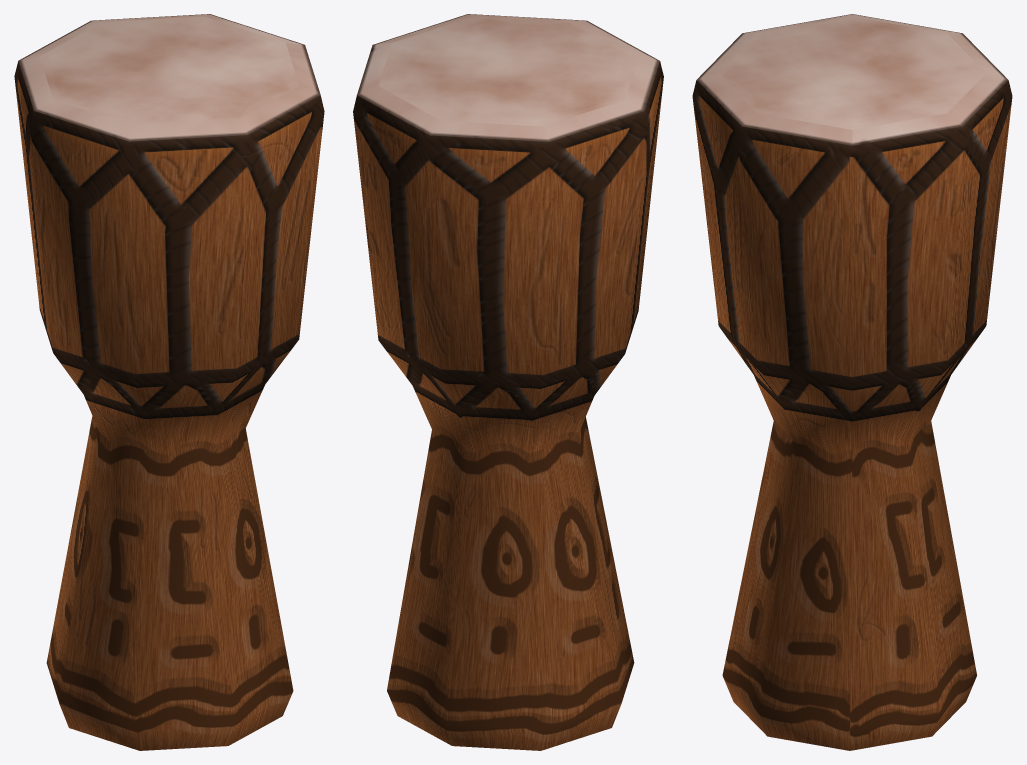
File: drums.FBX
3 views of the same model, side by side, from view 1: azimuth 30°, elevation 25°; view 2: azimuth 150°, elevation 25°; view 3: azimuth 270°, elevation 25° (orthographic).
Visible parts, largest first — view 1: Cylinder01; view 2: Cylinder01; view 3: Cylinder01.
Boxes of the visible parts, bbox=[...] form: Cylinder01: bbox=[14, 14, 324, 750]; Cylinder01: bbox=[353, 14, 663, 750]; Cylinder01: bbox=[692, 14, 1012, 750].
Bounding box in the file's own units: 29.73 × 64.44 × 29.73.
